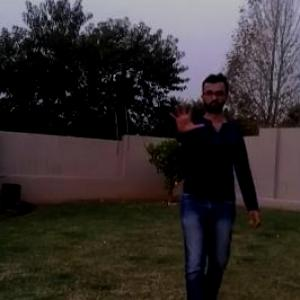follow_hand: (166, 92, 204, 136)
